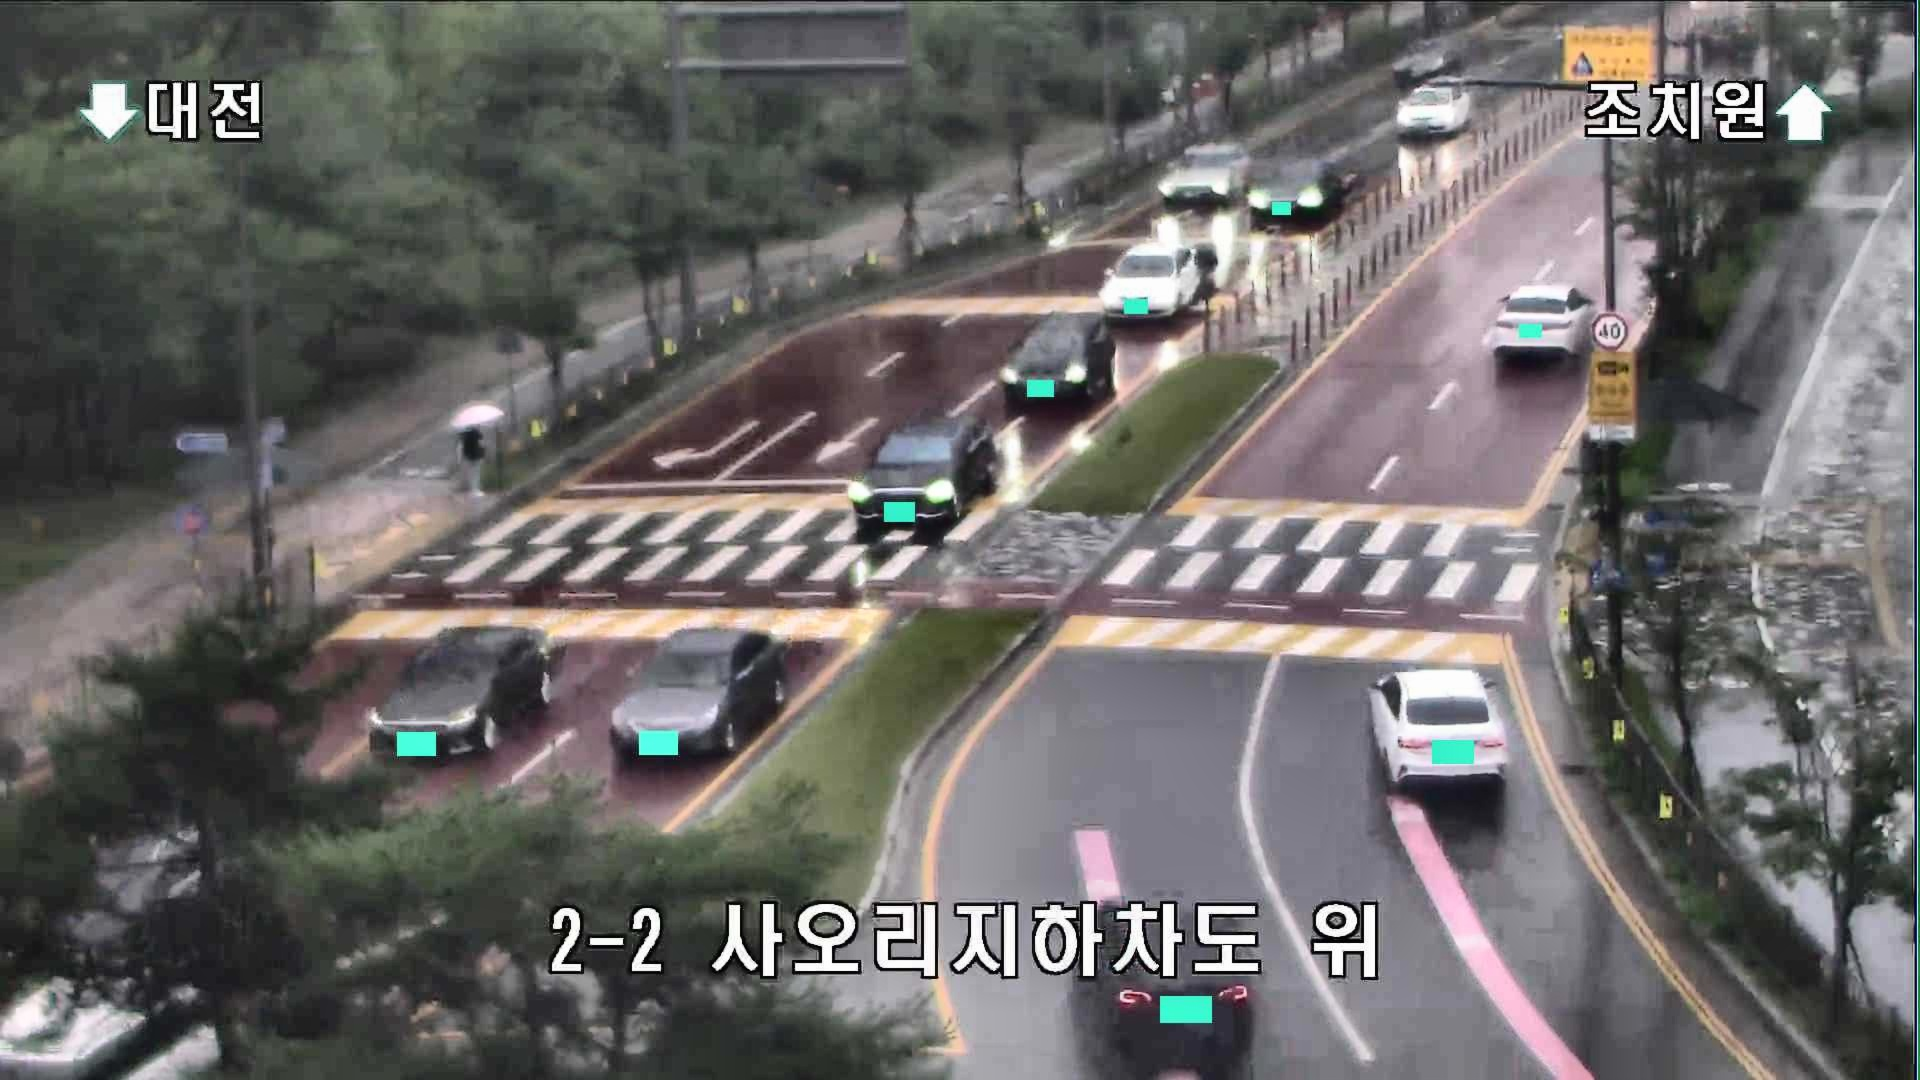um_sidewalk: (452, 401, 506, 496)
